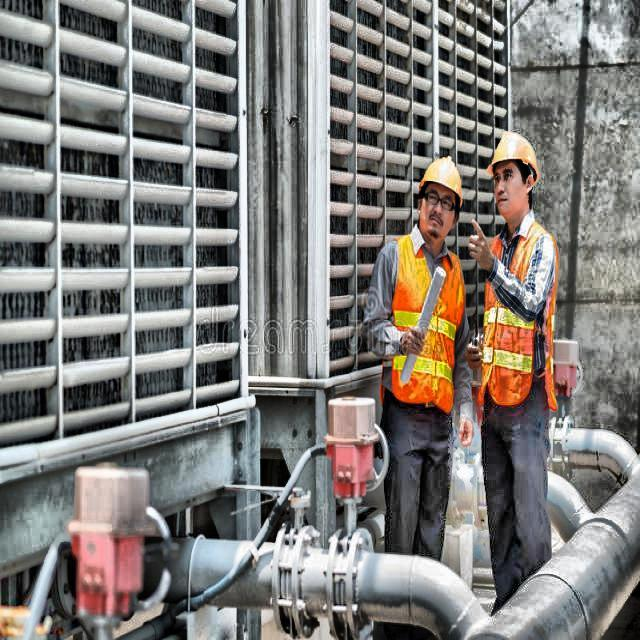person: (356, 150, 479, 567), (467, 132, 575, 582)
